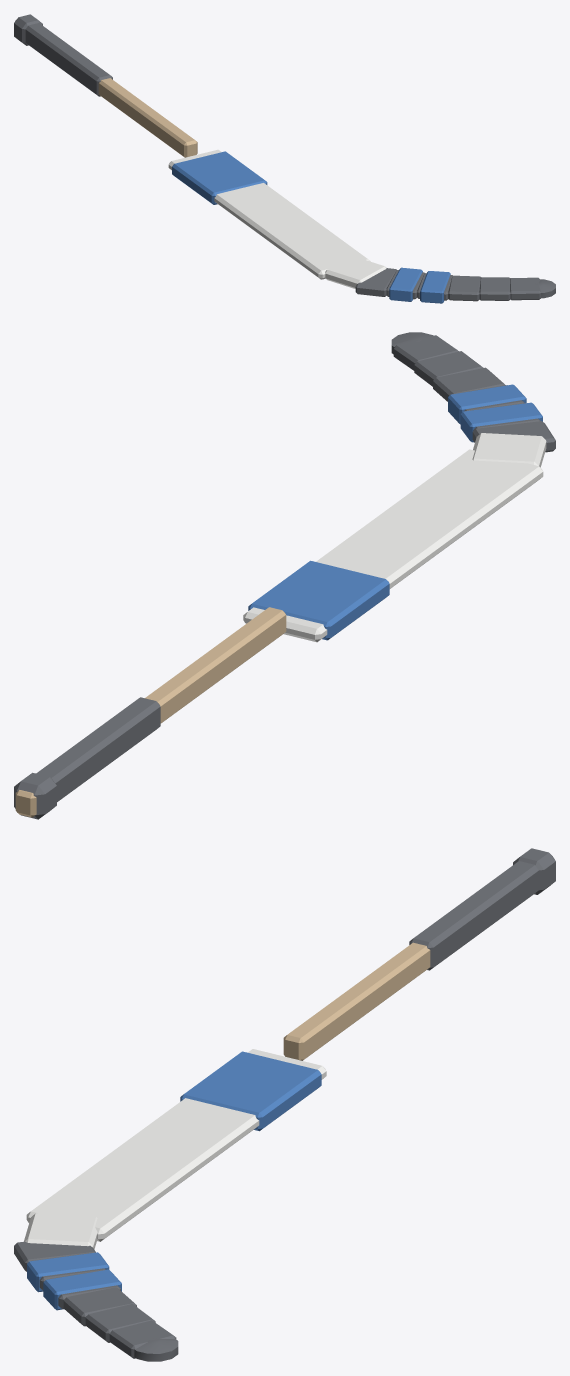
Rendered from ice-hockey-arena-and-locker-room-goalie-stick-91cd1483__33718.glb.
The picture shows the model from 3 angles, top to bottom: view 1: azimuth 30°, elevation 25°; view 2: azimuth 150°, elevation 25°; view 3: azimuth 330°, elevation 25°; orthographic projection. The views are drawn at different scales.
Visible parts, largest first — view 1: goalie-stick; view 2: goalie-stick; view 3: goalie-stick.
Part boxes in pixels (<box>): goalie-stick: <box>14,14,555,303</box>; goalie-stick: <box>14,332,555,819</box>; goalie-stick: <box>14,848,555,1361</box>.
Bounding box in the file's own units: 0.3708 × 0.056 × 1.52.
